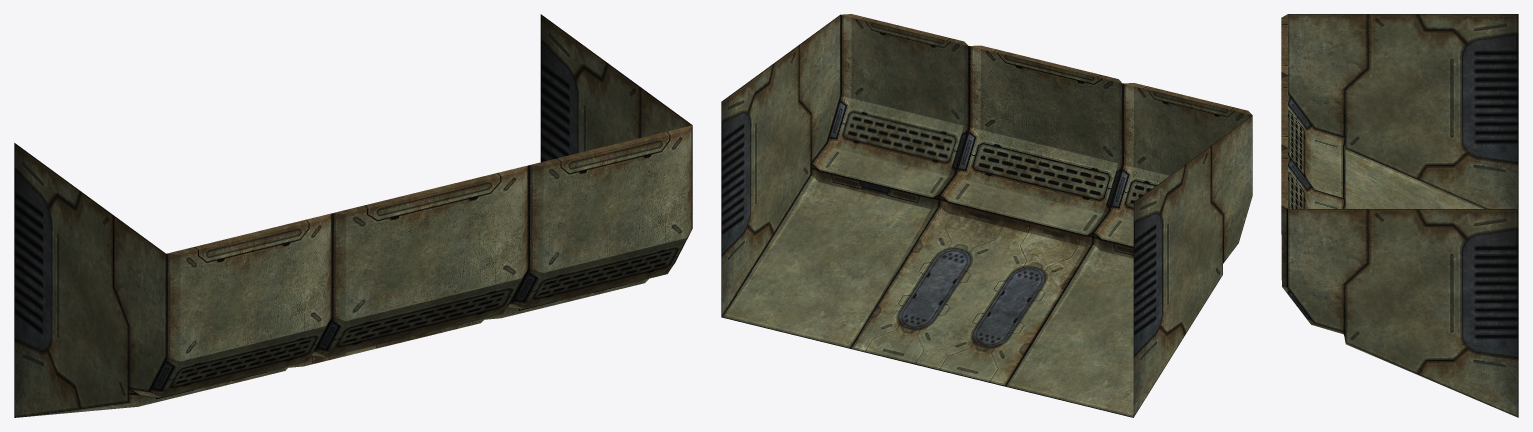
File: consoles02.dae
The picture shows the model from 3 angles, left to right: view 1: azimuth 30°, elevation 25°; view 2: azimuth 150°, elevation 25°; view 3: azimuth 270°, elevation 25°; orthographic projection. The views are drawn at different scales.
Parts seen in each view (by area): view 1: polySurface130; view 2: polySurface130; view 3: polySurface130.
Part boxes in pixels (<box>): polySurface130: <box>14,14,692,417</box>; polySurface130: <box>721,14,1252,417</box>; polySurface130: <box>1281,14,1518,417</box>.
Size of the model in its own units: 4 by 2 by 2.06.
1 material, 1 textured.
